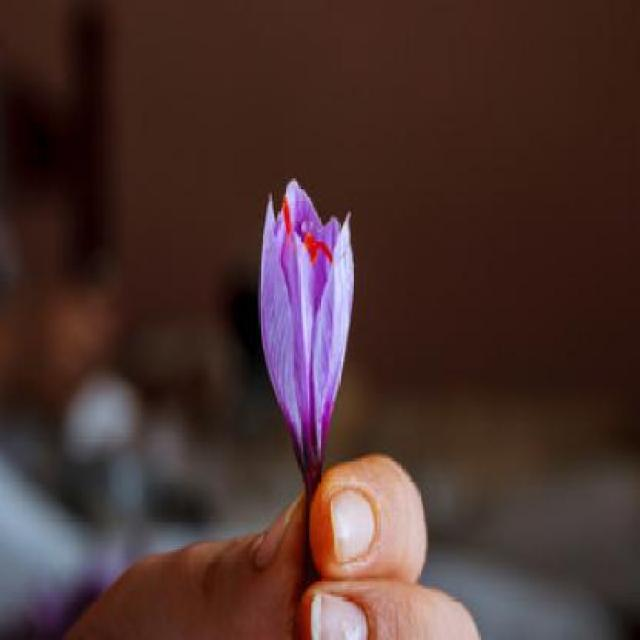Flower: (258, 177, 357, 486)
stigma: (276, 197, 294, 270)
